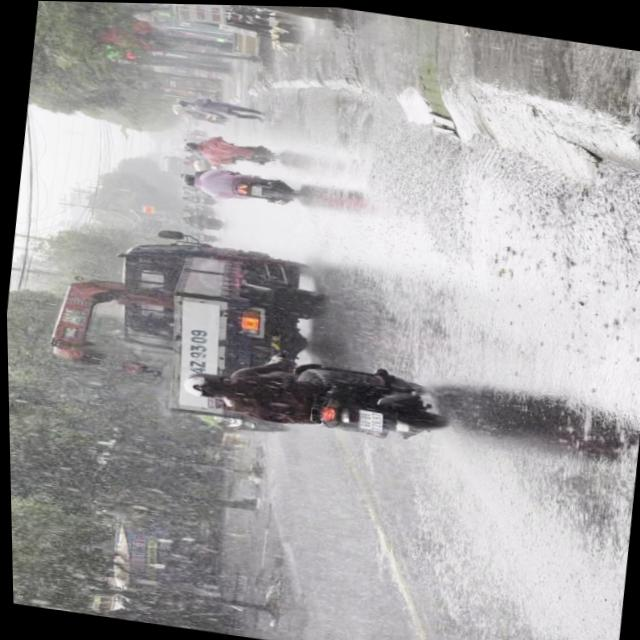helmet: (178, 370, 223, 400)
licenseplate: (172, 340, 449, 450)
nohelmet: (354, 407, 379, 430)
